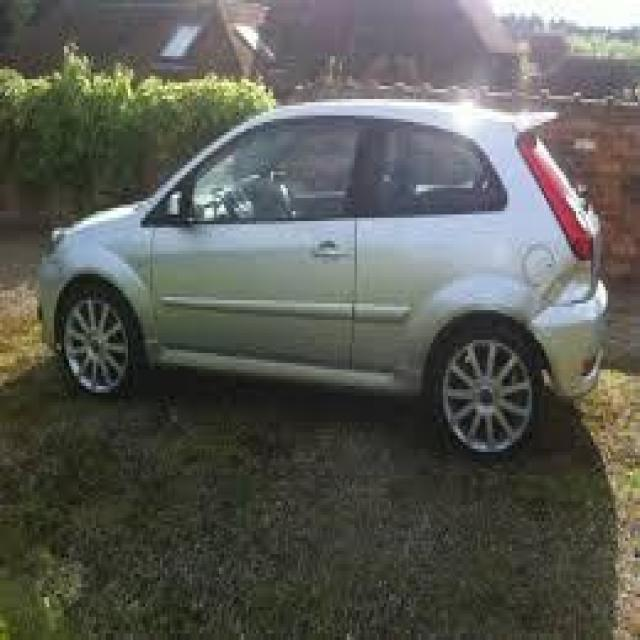damaged: (526, 260, 594, 340)
